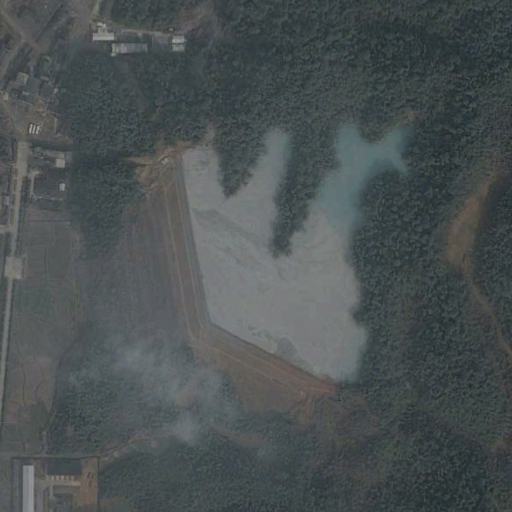tp: (124, 116, 413, 419)
